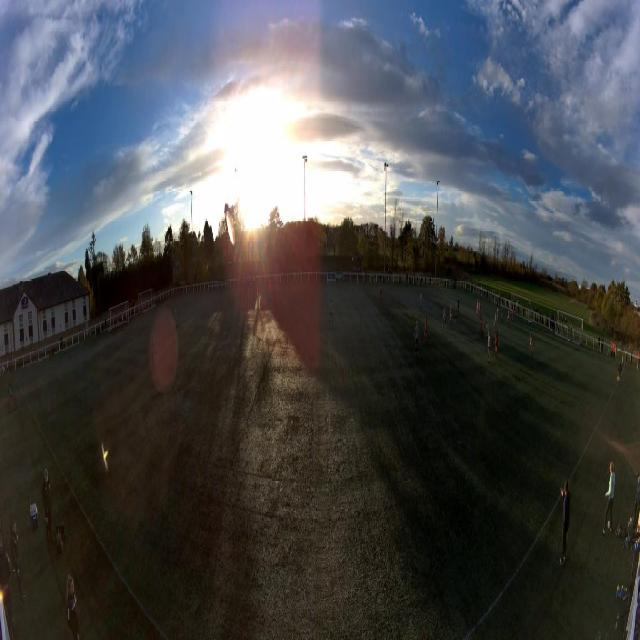player: (414, 320, 420, 357), (487, 332, 493, 361), (328, 298, 334, 325), (494, 331, 499, 358), (424, 315, 428, 344), (529, 332, 533, 357), (442, 305, 446, 327), (486, 321, 490, 341), (174, 305, 178, 325), (450, 305, 453, 327), (480, 314, 483, 334), (420, 292, 423, 312), (494, 311, 497, 331), (507, 309, 510, 327), (476, 301, 479, 319), (496, 306, 499, 323), (379, 285, 382, 301), (479, 302, 482, 318), (458, 297, 460, 316), (456, 299, 458, 316), (501, 307, 503, 323), (512, 306, 514, 321)
